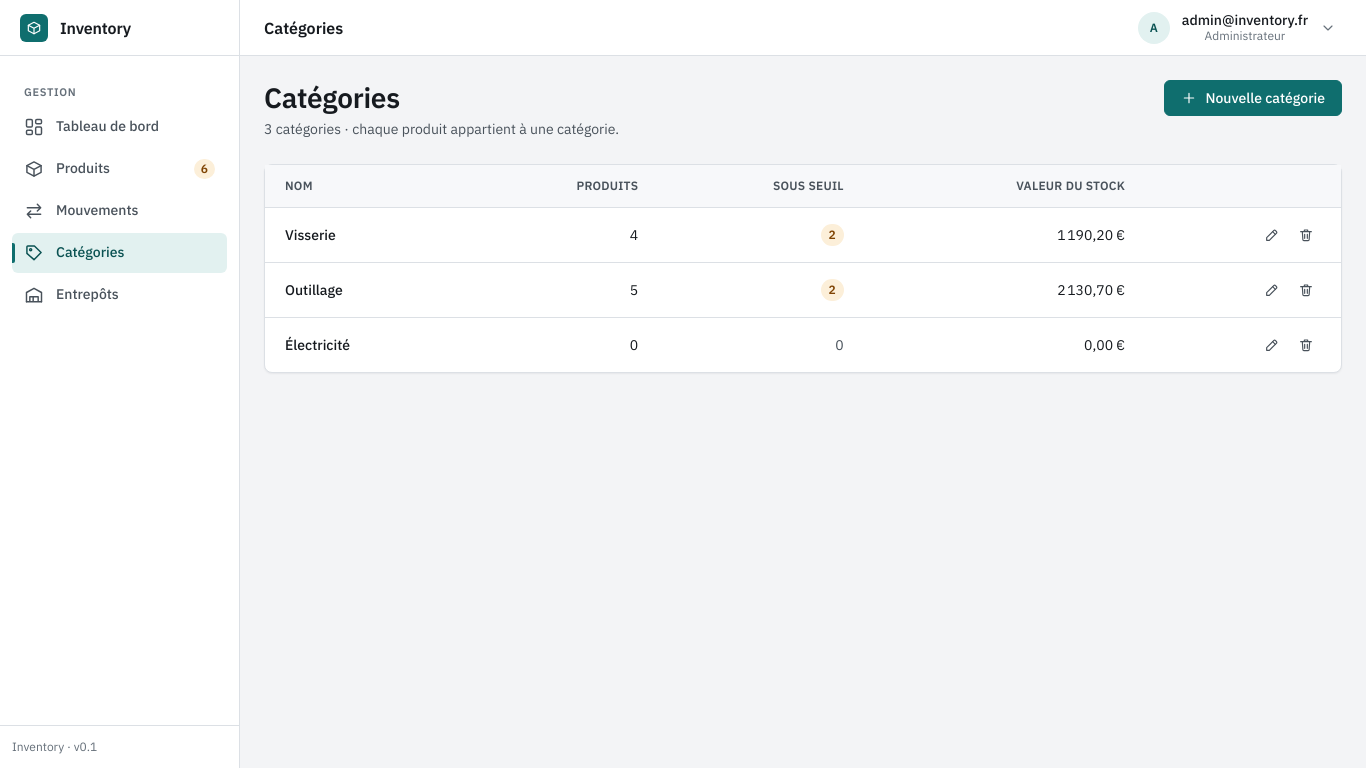
Test: AppShell navigation › updates the badge after a write
The width and height of the screenshot is (1366, 768).
Expected: the header is shown, [240,0,1365,56]
Expected: the text named "6 produits à surveiller" is shown, [194,158,215,178]
Click the button "Nouvelle catégorie" at (1253, 98), box [1164,80,1342,116]
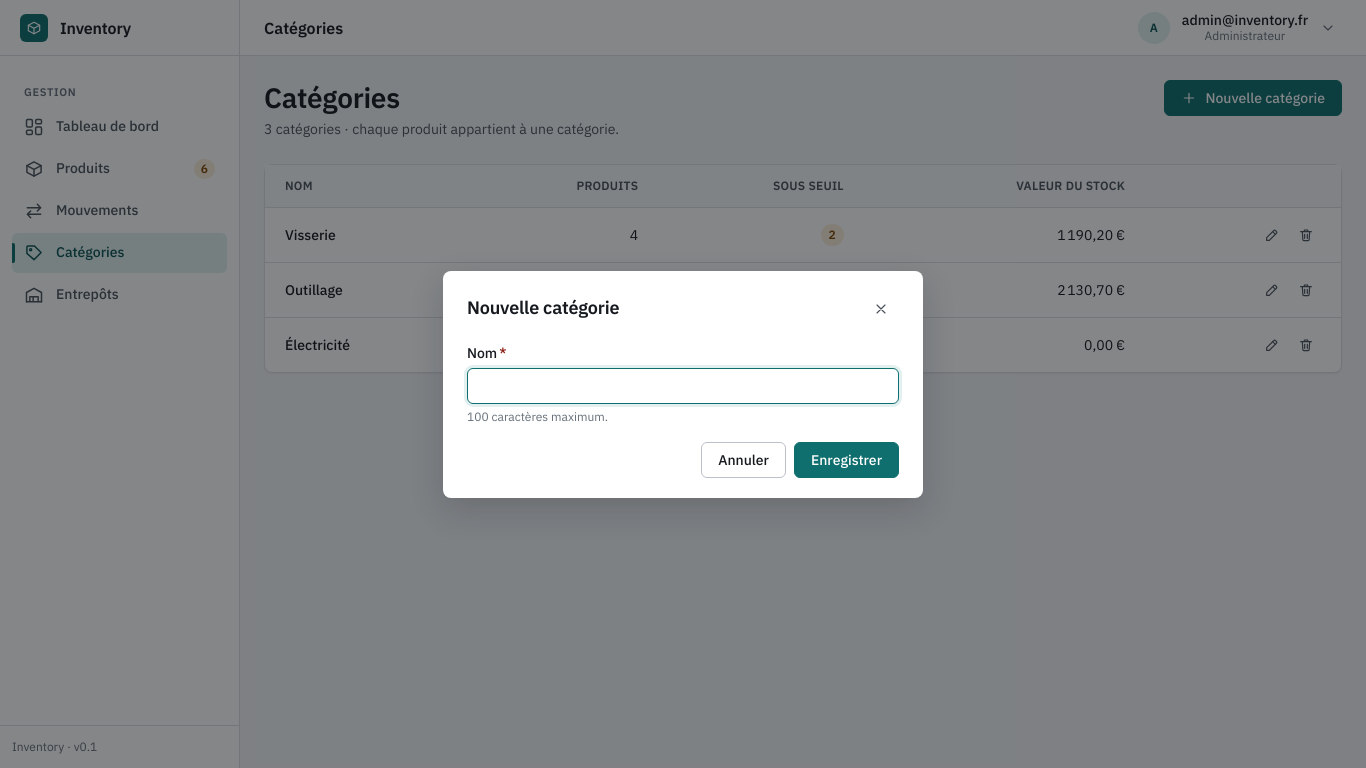
Type "Peinture" into the field labelled "Nom*" at (683, 386), box [467,368,899,404]
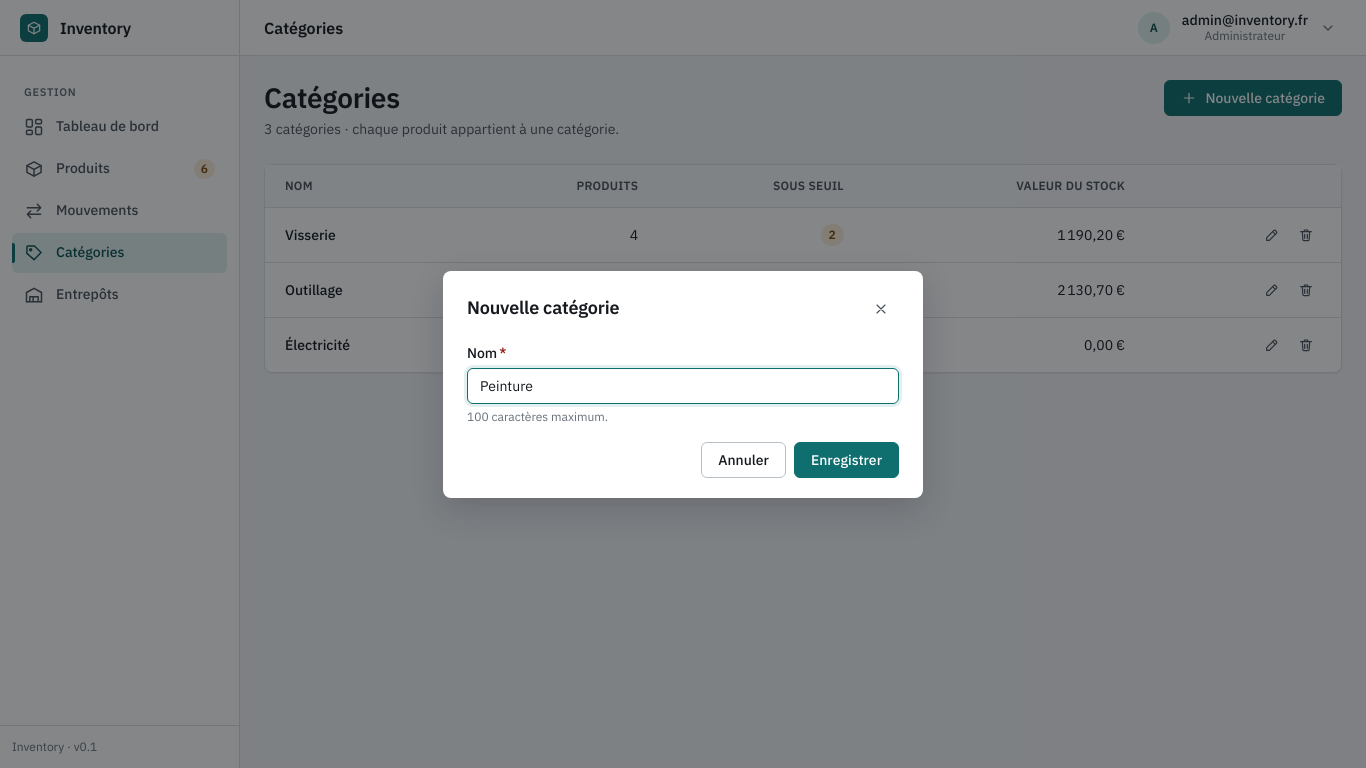
Click the button "Enregistrer" at (846, 460), box [794,442,899,478]
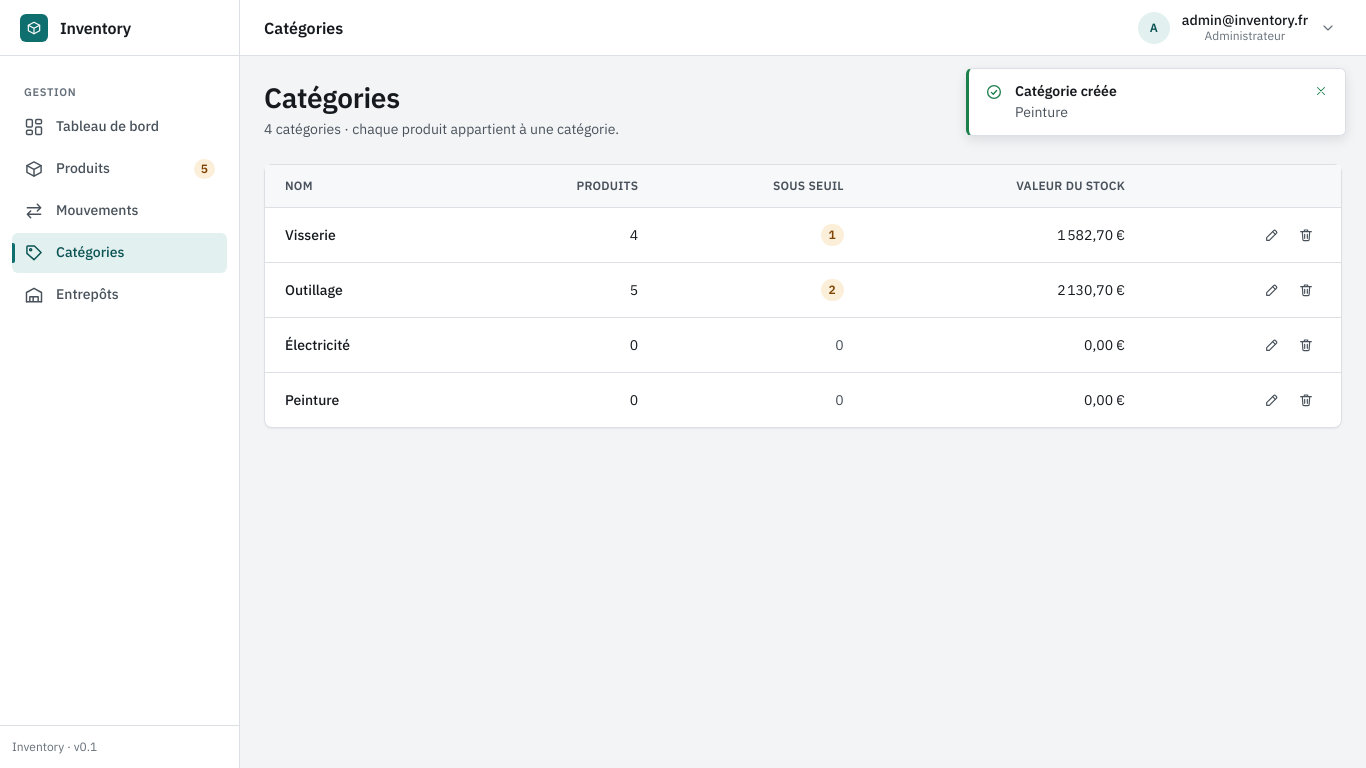
Expected: the text named "5 produits à surveiller" is shown, [194,158,215,178]
